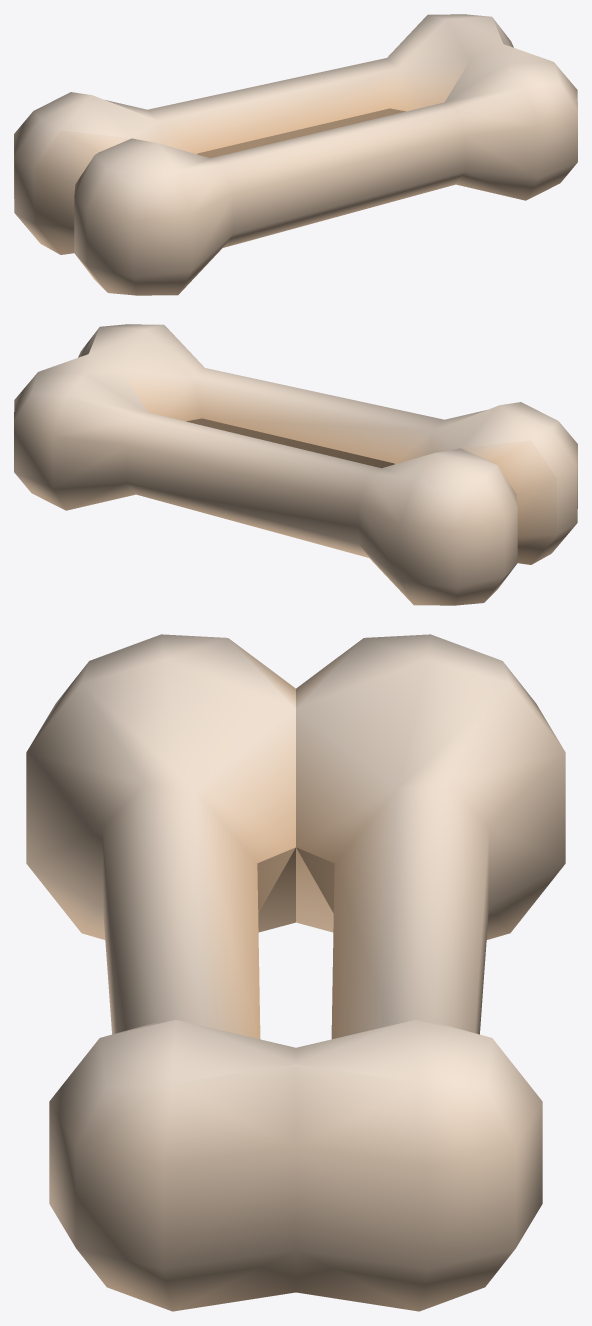
Rendered from Bone B.glb.
3 renders of one model, top to bottom at view 1: azimuth 30°, elevation 25°; view 2: azimuth 150°, elevation 25°; view 3: azimuth 270°, elevation 25°, orthographic. The views are drawn at different scales.
Parts seen in each view (by area): view 1: bone_B; view 2: bone_B; view 3: bone_B.
Part boxes in pixels (x1,y1,x2,y2): bone_B: (14,14,577,295); bone_B: (14,324,577,605); bone_B: (26,634,565,1311).
Bounding box in the file's own units: 0.6063 × 0.1747 × 0.2867.
1 material, 1 textured.
